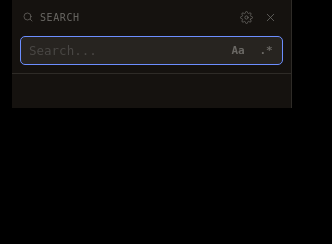
SearchPanel › the results › counts the matches of each file
Step 1. Type "value" into the field with class "search-input" → (122, 50), box [21,37,222,64]
Wait 280 ms
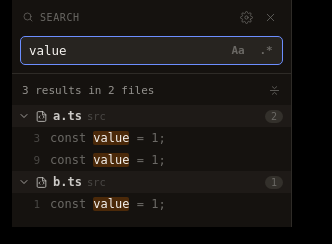
Check: the text with class "result-count" reads "2", box [271,110,277,122]
